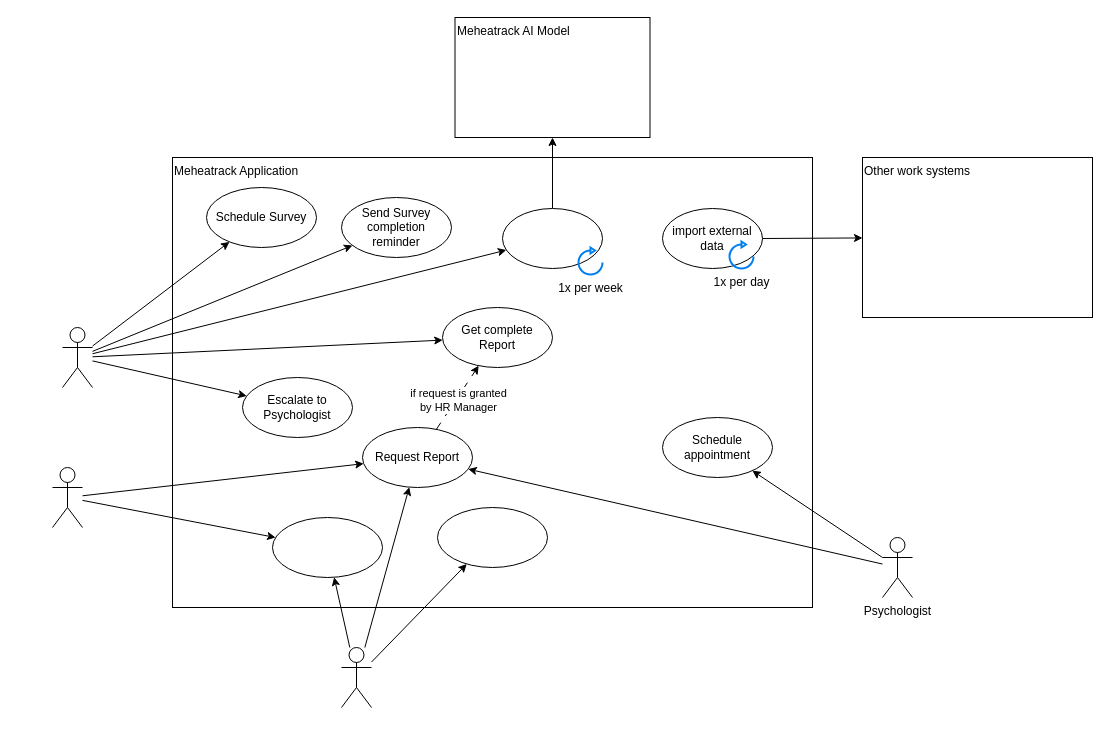
Image size: 1110x746. Some labels were removed from this diagram. Here are the shapes that lost their labels. From the top down, the box of each, then its label:
(502, 208, 602, 268): Evaluate mental health risk
(62, 326, 92, 388): HR Manager
(52, 466, 82, 528): Employee-superior
(272, 516, 382, 578): Create Incident / Issue
(436, 506, 548, 568): Fill out Survey
(340, 646, 372, 708): Employee
